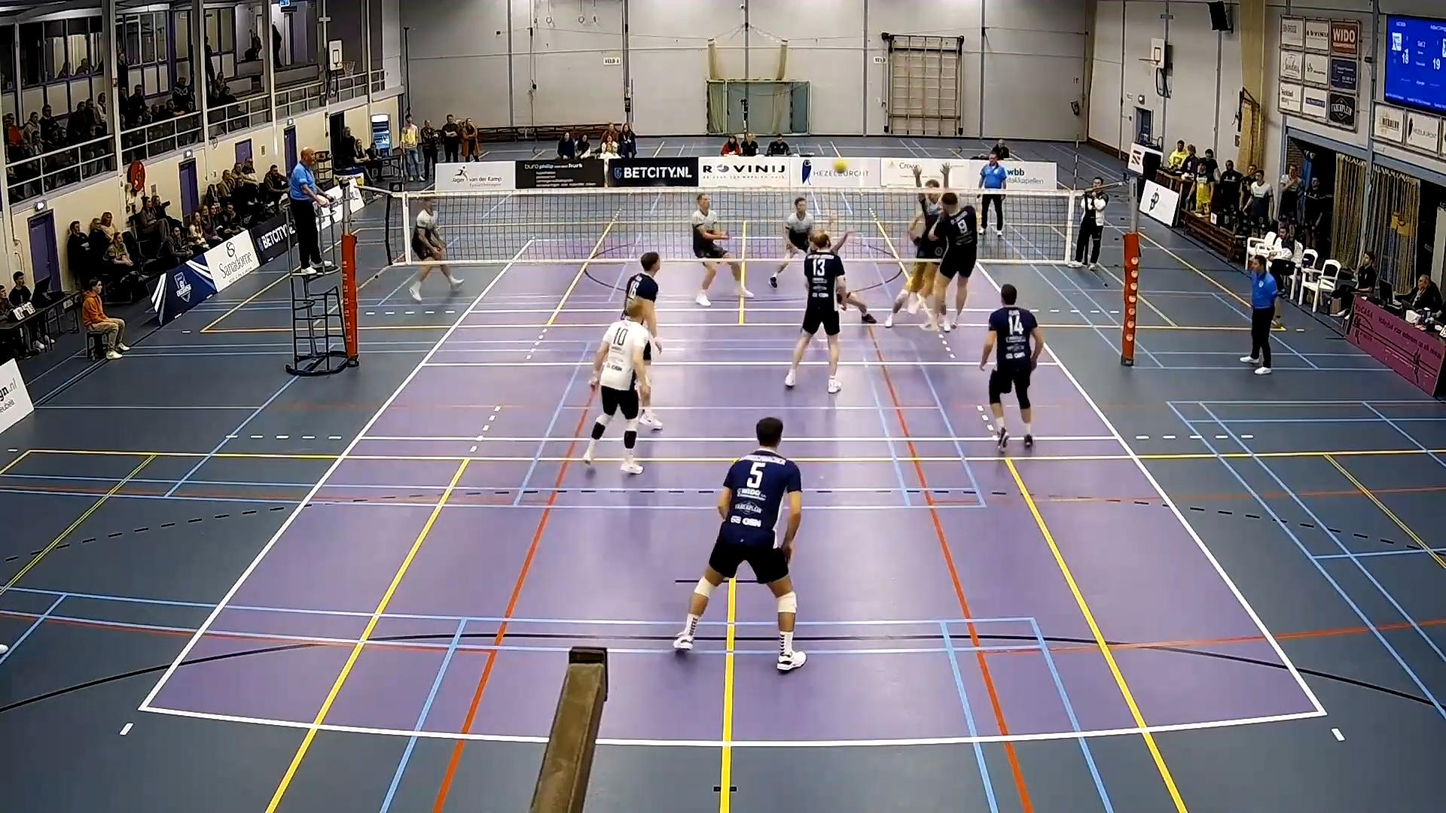attacco: (931, 195, 982, 333)
muro: (900, 166, 951, 323)
